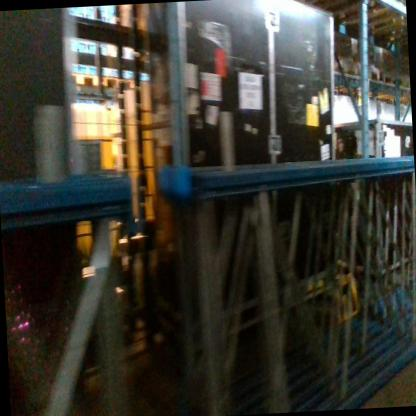pallet: (332, 0, 407, 31), (101, 74, 136, 94), (70, 71, 98, 88), (333, 58, 358, 75), (380, 72, 400, 85), (366, 65, 380, 81)
